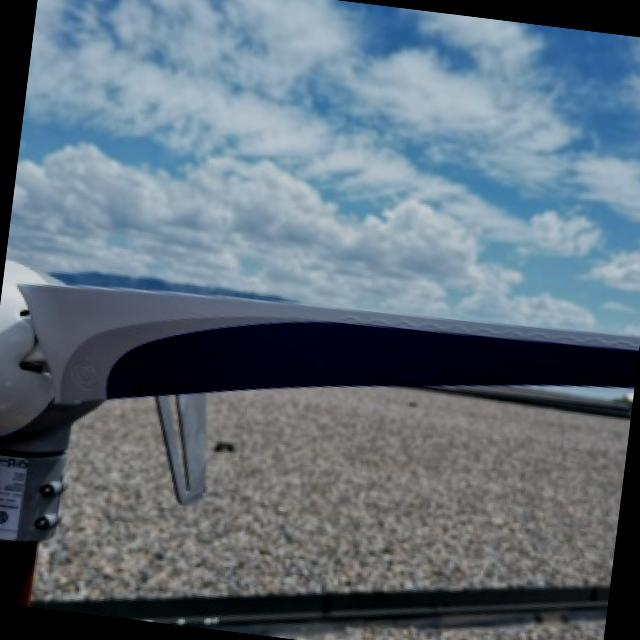healthy: (0, 260, 640, 605)
